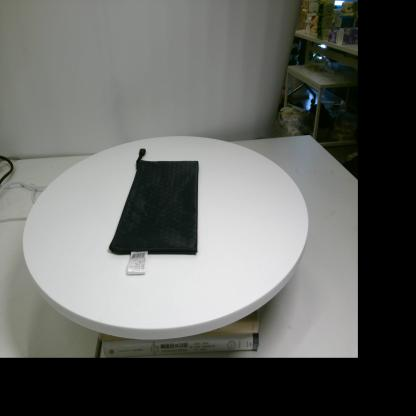Stationery: (109, 148, 199, 274)
